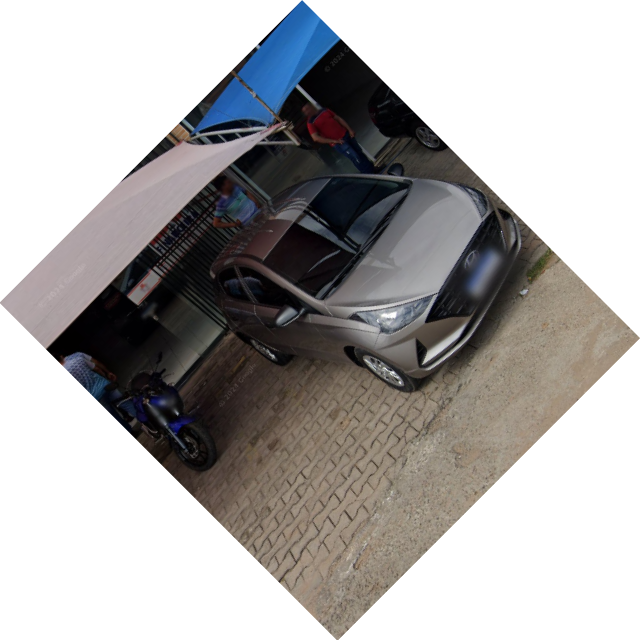car: (197, 173, 536, 395)
